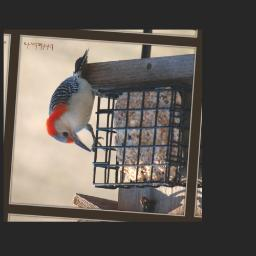Woodpecker: (45, 45, 112, 153)
